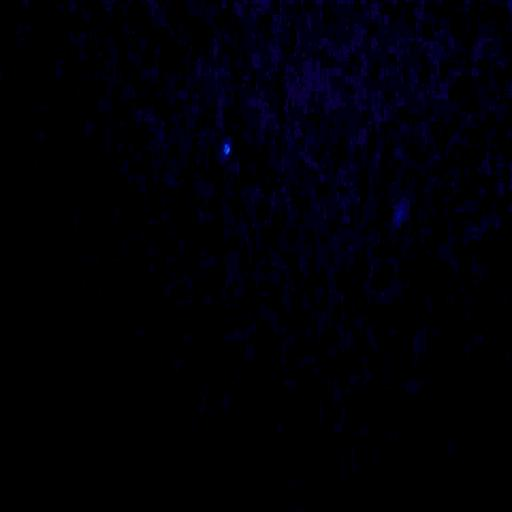object-detection-project: (224, 144, 230, 155)
